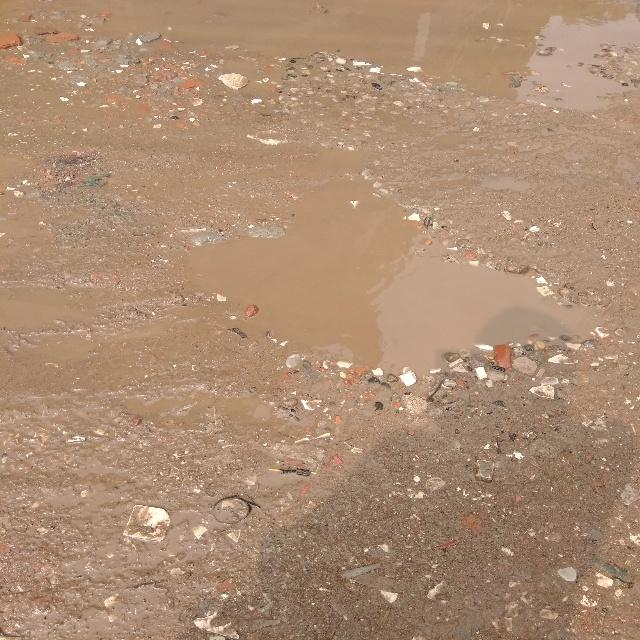Surface Erosion: (40, 28, 640, 640)
